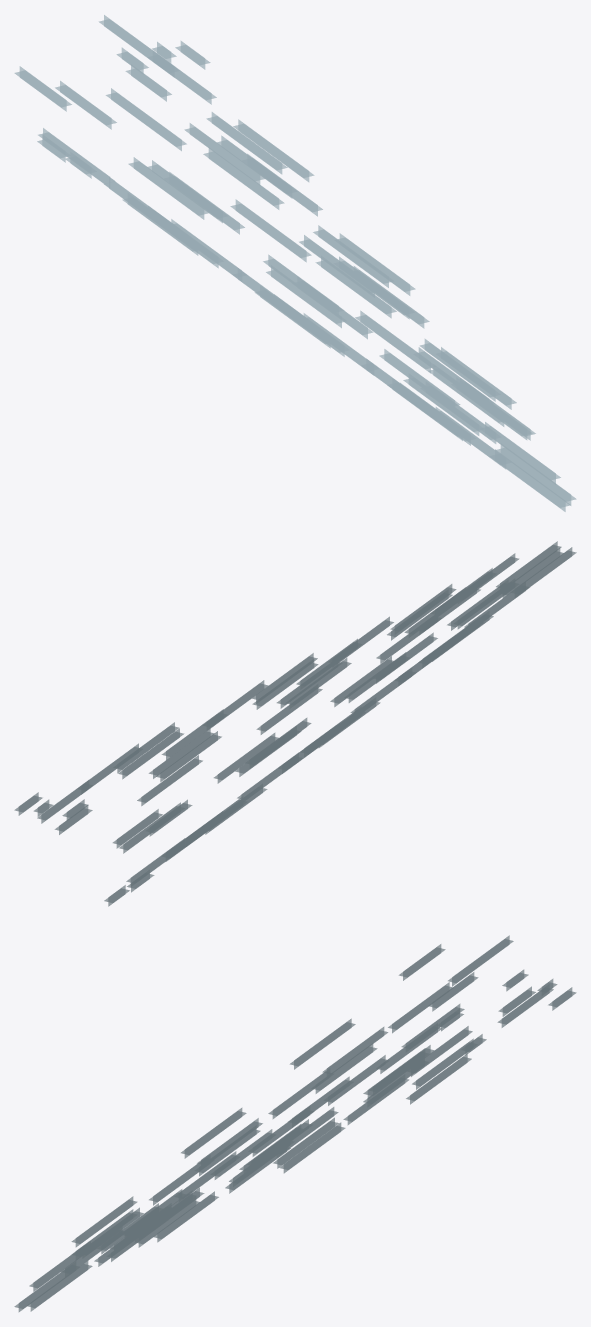
The model's file is wp_water_342.obj.
3 renders of one model, top to bottom at view 1: azimuth 30°, elevation 25°; view 2: azimuth 150°, elevation 25°; view 3: azimuth 330°, elevation 25°, orthographic. The views are drawn at different scales.
Bounding box in the file's own units: 0.3369 × 0.2636 × 1.81.
Materials: 1 (1 with a texture image).
